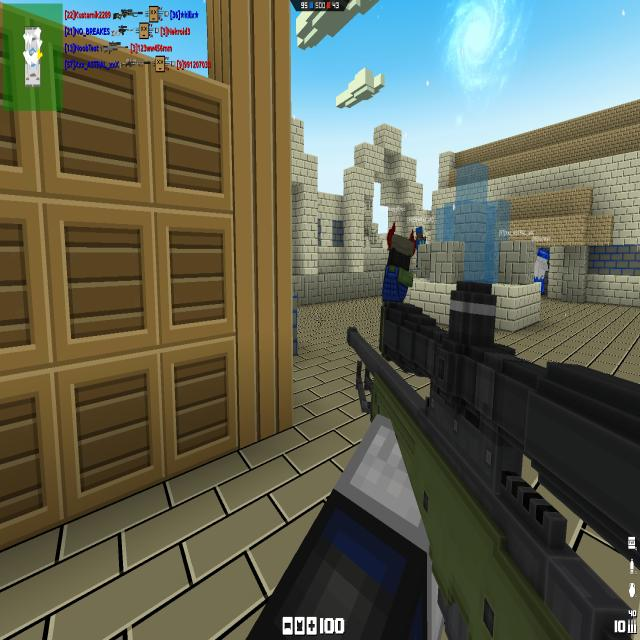player: (381, 231, 416, 305), (532, 247, 550, 295), (415, 227, 426, 250)
